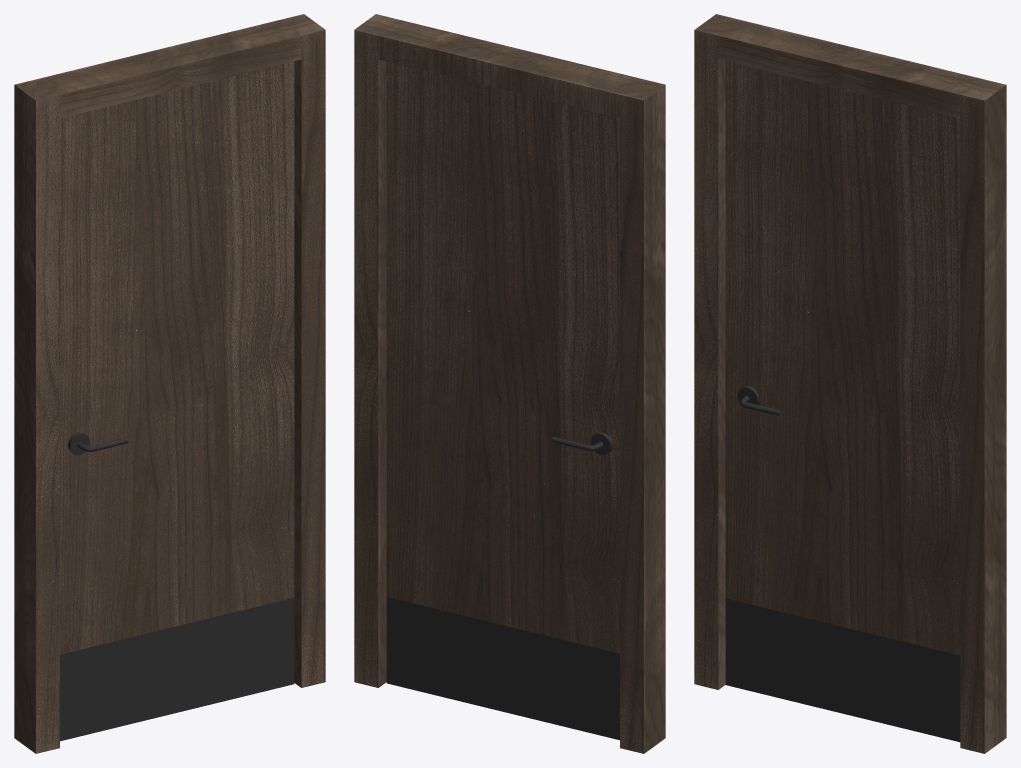
File: Door 2.FBX
The picture shows the model from 3 angles, left to right: view 1: azimuth 30°, elevation 25°; view 2: azimuth 150°, elevation 25°; view 3: azimuth 330°, elevation 25°; orthographic projection.
Parts seen in each view (by area): view 1: Door, door frame; view 2: Door, door frame; view 3: Door, door frame.
Part boxes in pixels (bbox=[...]): Door: bbox=[60, 61, 294, 741]; door frame: bbox=[14, 14, 325, 753]; Door: bbox=[386, 61, 619, 740]; door frame: bbox=[354, 14, 665, 753]; Door: bbox=[725, 61, 960, 742]; door frame: bbox=[694, 14, 1006, 753].
Size of the model in its own units: 101 by 217 by 17.52.
2 materials, 1 textured.
